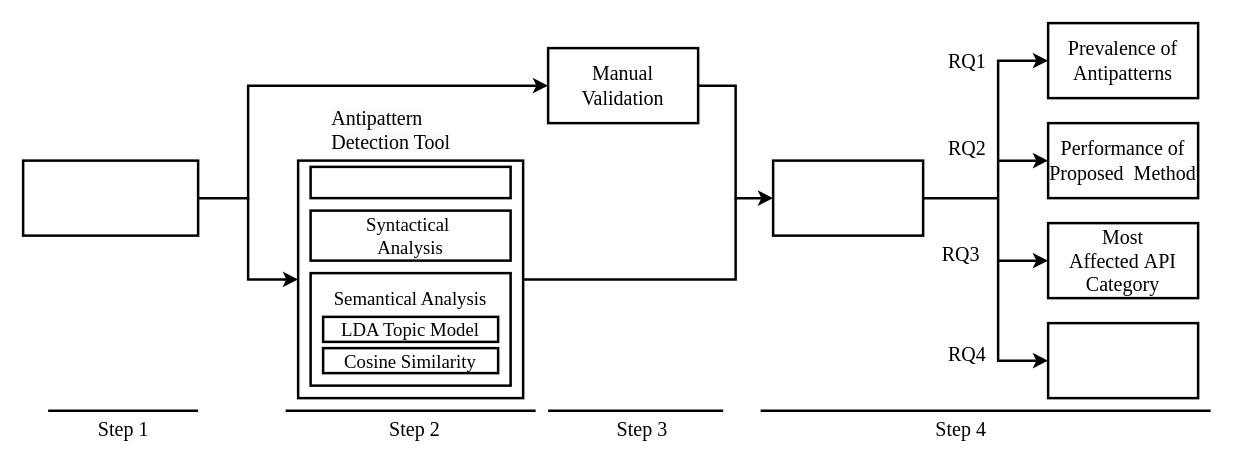
Image size: 1234x469. Some labels were removed from this diagram. Here are the shapes that lost their labels. From the top down, the centre of each, then its label:
the point at 110,197: Data Collection and Pre-processing
the point at 410,182: Heuristics
the point at 847,197: Result Analysis
the point at 1122,360: Most Common Antipatterns
